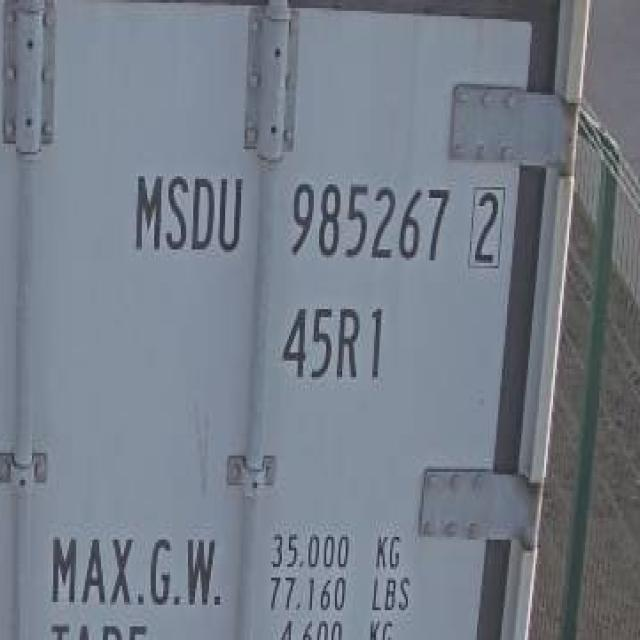dv: (464, 181, 508, 275)
owner: (125, 166, 248, 261)
serial: (284, 172, 453, 269)
size: (277, 298, 396, 388)
